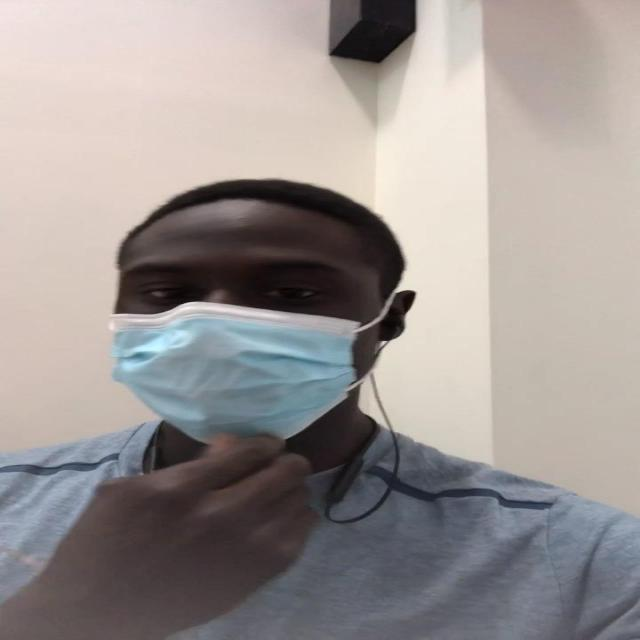face: (110, 226, 392, 456)
